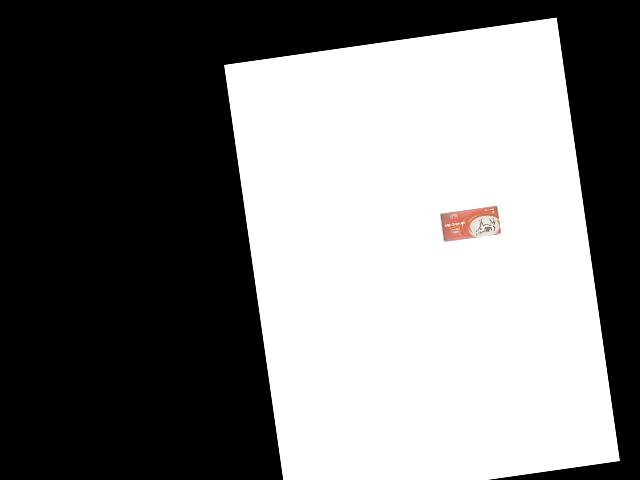chocolate: (438, 204, 501, 242)
